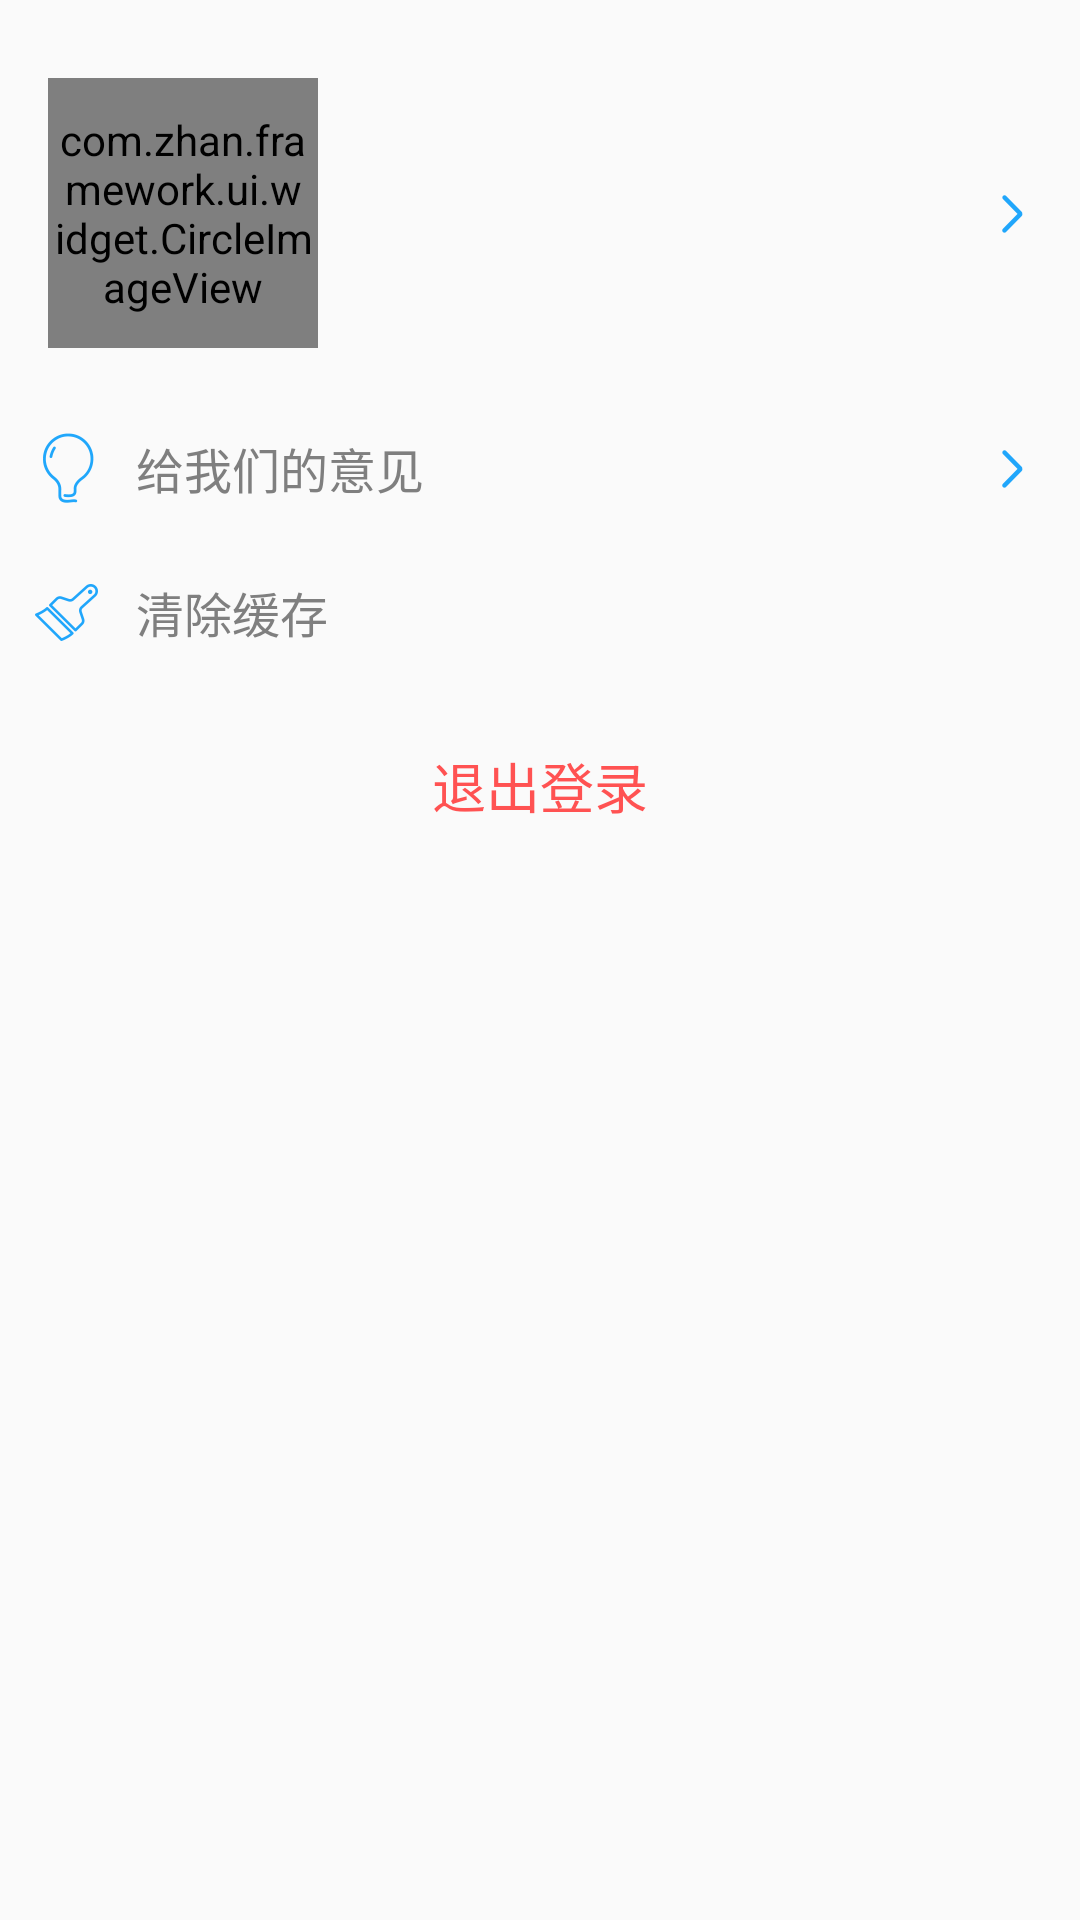

Where icons sit on this 1080px×1920px app screen, as rect(x1, y1, x2, y2):
arrow right: rect(1002, 195, 1023, 233), rect(1002, 450, 1023, 488)
setting cahce: rect(35, 584, 98, 641)
setting suggestion: rect(43, 433, 94, 503)
